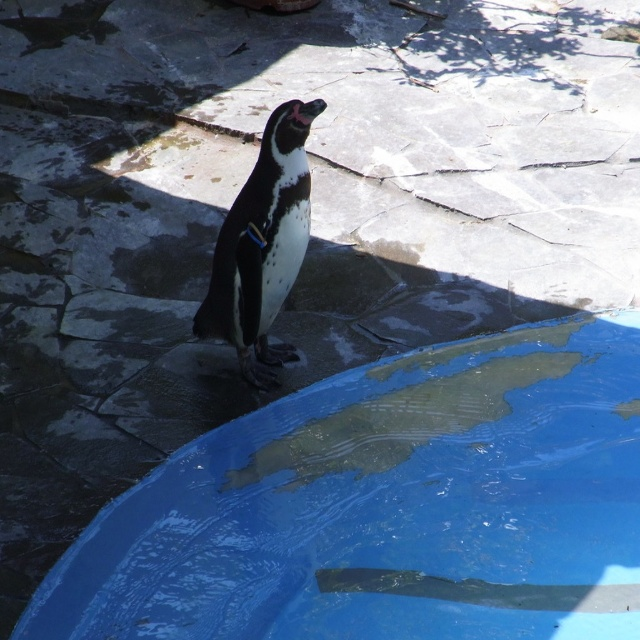Penguin: (192, 99, 327, 390)
